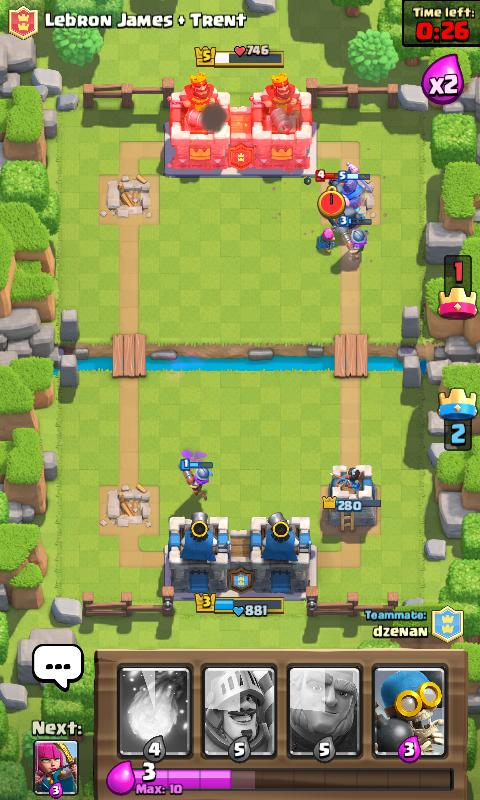ally_archer: (314, 225, 337, 254)
ally_knight: (338, 160, 372, 212)
ally_musketeer: (338, 214, 372, 262), (178, 456, 213, 501)
enemy_mini_pekka: (314, 167, 338, 186)
